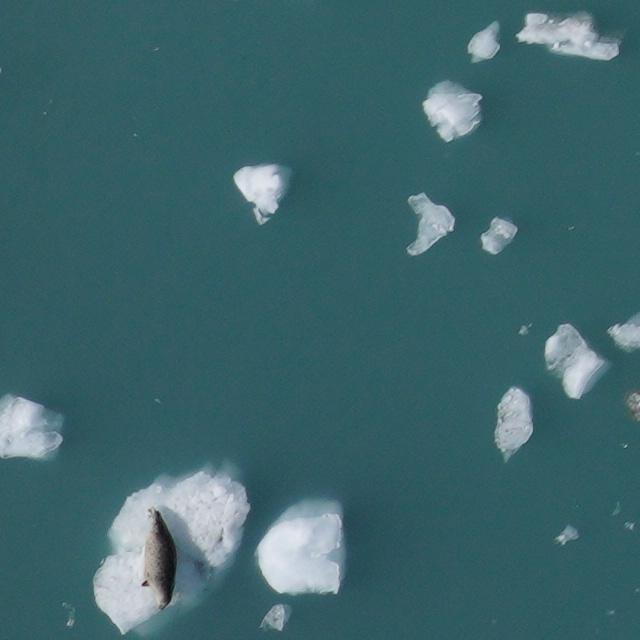seal: (135, 507, 183, 613)
